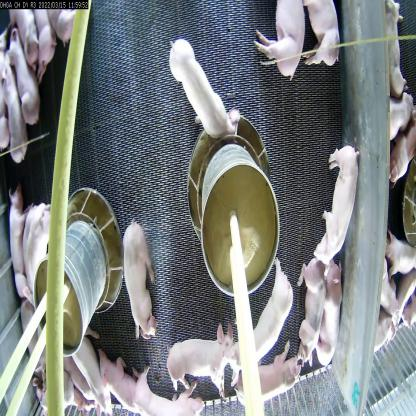Pig: (167, 34, 238, 145), (232, 268, 291, 366), (170, 323, 244, 400), (116, 202, 155, 342), (314, 252, 358, 374), (316, 138, 358, 262), (8, 23, 51, 127), (296, 255, 327, 388), (262, 0, 310, 68), (138, 370, 206, 415), (246, 359, 300, 415), (0, 53, 27, 162), (20, 206, 53, 295), (69, 338, 104, 414), (4, 190, 26, 302), (92, 349, 130, 407)
